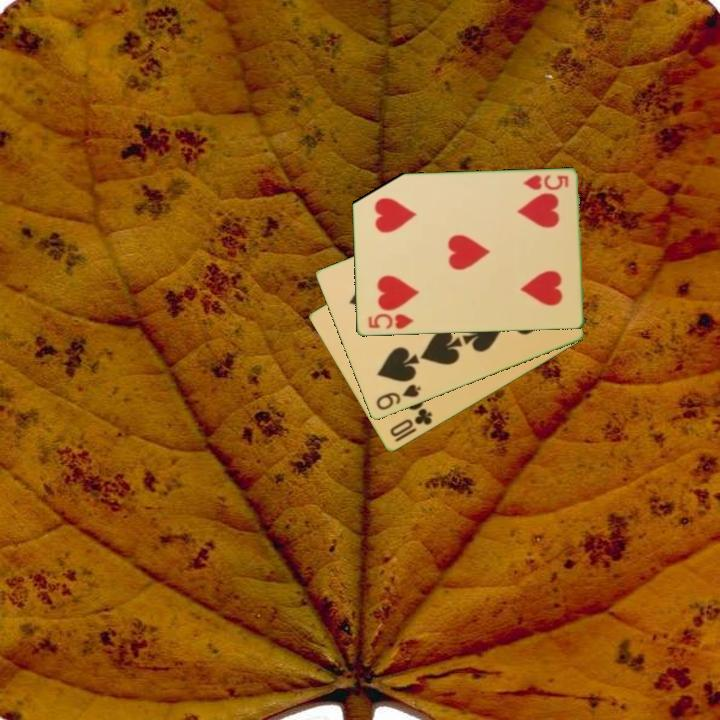10c: (386, 405, 435, 440)
5h: (365, 310, 416, 332), (519, 172, 571, 193)
9s: (372, 381, 424, 413)
